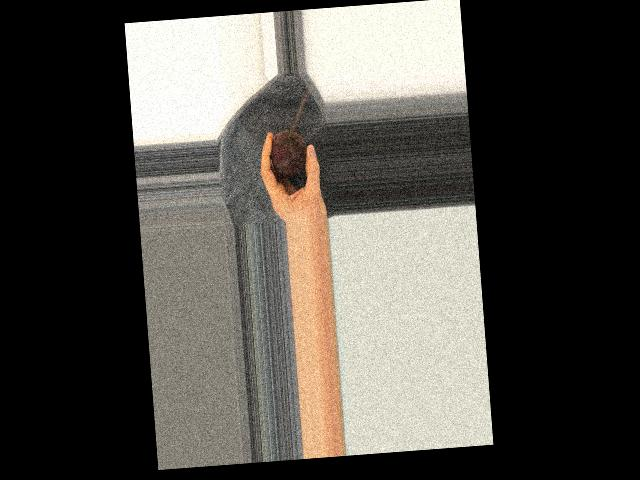beet: (269, 129, 308, 177)
